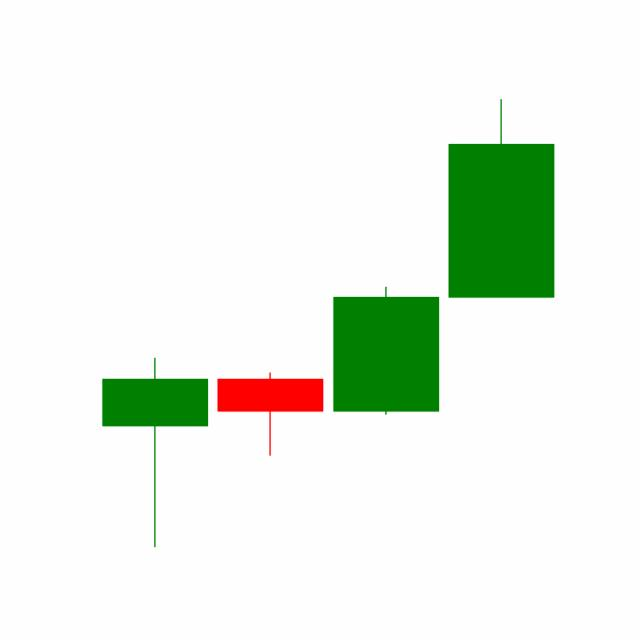Marubozu: (328, 284, 444, 416)
